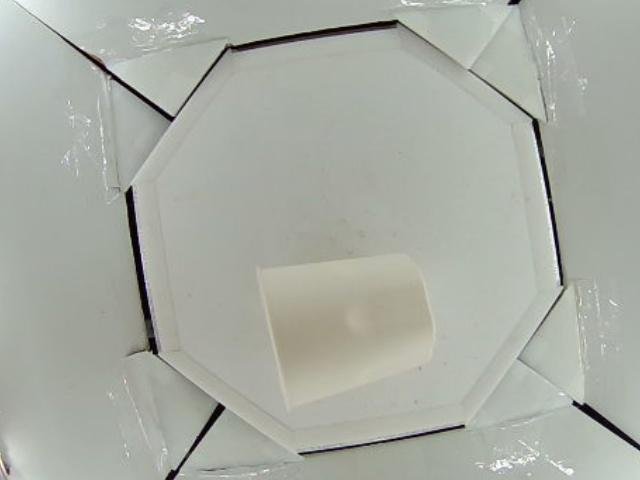Cup: (258, 252, 437, 415)
